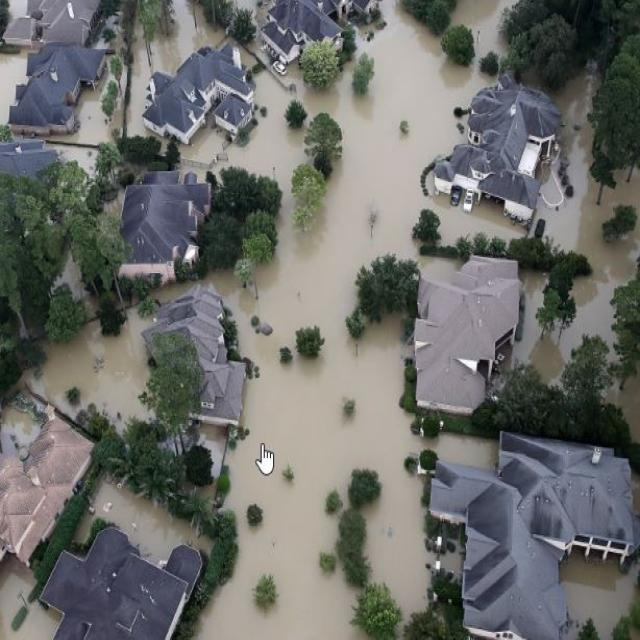flooded_areas: (0, 1, 365, 639), (375, 24, 639, 638)
